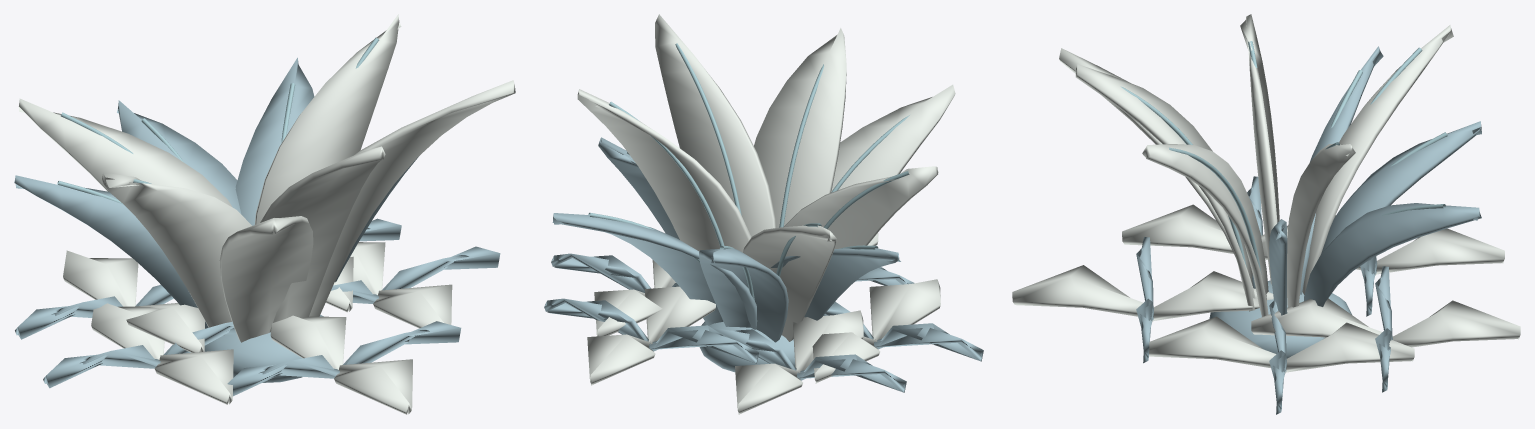
The model's file is bio_mist_leaf_15_far.glb.
The picture shows the model from 3 angles, left to right: view 1: azimuth 30°, elevation 25°; view 2: azimuth 150°, elevation 25°; view 3: azimuth 270°, elevation 25°; orthographic projection. The views are drawn at different scales.
Parts seen in each view (by area): view 1: Cupped condensate leaf.008, Cupped condensate leaf.004, Cupped condensate leaf.007, Cupped condensate leaf.002, Cupped condensate leaf.001, Cupped condensate leaf.005, Low buttress leaf.009, Cupped condensate leaf.009, Low buttress leaf.005, Low buttress leaf.017, Cupped condensate leaf.003, Low buttress leaf.001 (+8 smaller); view 2: Cupped condensate leaf.002, Cupped condensate leaf.005, Cupped condensate leaf.008, Cupped condensate leaf.007, Cupped condensate leaf.004, Cupped condensate leaf.003, Cupped condensate leaf.001, Cupped condensate leaf.006, Low buttress leaf.017, Low buttress leaf.013, Low buttress leaf.005, Low buttress leaf.012 (+13 smaller); view 3: Low buttress leaf.001, Low buttress leaf.009, Cupped condensate leaf.003, Low buttress leaf.013, Cupped condensate leaf.001, Cupped condensate leaf.005, Cupped condensate leaf.002, Cupped condensate leaf.006, Cupped condensate leaf.008, Cupped condensate leaf.004, Low buttress leaf.005, Low buttress leaf.017 (+11 smaller).
Boxes of the visible parts, x1=… form: Cupped condensate leaf.008: x1=254, y1=14, x2=401, y2=224; Cupped condensate leaf.004: x1=101, y1=172, x2=251, y2=327; Cupped condensate leaf.007: x1=219, y1=216, x2=313, y2=342; Cupped condensate leaf.002: x1=260, y1=146, x2=385, y2=332; Cupped condensate leaf.001: x1=19, y1=98, x2=232, y2=207; Cupped condensate leaf.005: x1=309, y1=80, x2=515, y2=316; Low buttress leaf.009: x1=270, y1=315, x2=412, y2=414; Cupped condensate leaf.009: x1=14, y1=175, x2=208, y2=328; Low buttress leaf.005: x1=63, y1=250, x2=204, y2=352; Low buttress leaf.017: x1=91, y1=299, x2=233, y2=404; Cupped condensate leaf.003: x1=235, y1=57, x2=314, y2=225; Low buttress leaf.001: x1=350, y1=242, x2=452, y2=328; Cupped condensate leaf.002: x1=754, y1=28, x2=846, y2=227; Cupped condensate leaf.005: x1=655, y1=14, x2=776, y2=236; Cupped condensate leaf.008: x1=577, y1=89, x2=751, y2=252; Cupped condensate leaf.007: x1=831, y1=84, x2=955, y2=191; Cupped condensate leaf.004: x1=783, y1=166, x2=938, y2=248; Cupped condensate leaf.003: x1=552, y1=213, x2=757, y2=329; Cupped condensate leaf.001: x1=743, y1=225, x2=836, y2=341; Cupped condensate leaf.006: x1=699, y1=248, x2=788, y2=342; Low buttress leaf.017: x1=812, y1=279, x2=940, y2=383; Low buttress leaf.013: x1=587, y1=286, x2=715, y2=385; Low buttress leaf.005: x1=735, y1=310, x2=863, y2=414; Low buttress leaf.012: x1=544, y1=298, x2=758, y2=363; Low buttress leaf.001: x1=1149, y1=316, x2=1414, y2=373; Low buttress leaf.009: x1=1012, y1=265, x2=1273, y2=321; Cupped condensate leaf.003: x1=1304, y1=203, x2=1481, y2=306; Low buttress leaf.013: x1=1251, y1=298, x2=1520, y2=347; Cupped condensate leaf.001: x1=1302, y1=25, x2=1453, y2=294; Cupped condensate leaf.005: x1=1142, y1=144, x2=1268, y2=316; Cupped condensate leaf.002: x1=1075, y1=64, x2=1254, y2=311; Cupped condensate leaf.006: x1=1321, y1=121, x2=1481, y2=253; Cupped condensate leaf.008: x1=1287, y1=143, x2=1355, y2=307; Cupped condensate leaf.004: x1=1240, y1=14, x2=1279, y2=284; Low buttress leaf.005: x1=1261, y1=225, x2=1504, y2=275; Low buttress leaf.017: x1=1122, y1=204, x2=1389, y2=260.
Bounding box in the file's own units: 2.22 × 1.34 × 2.09.
